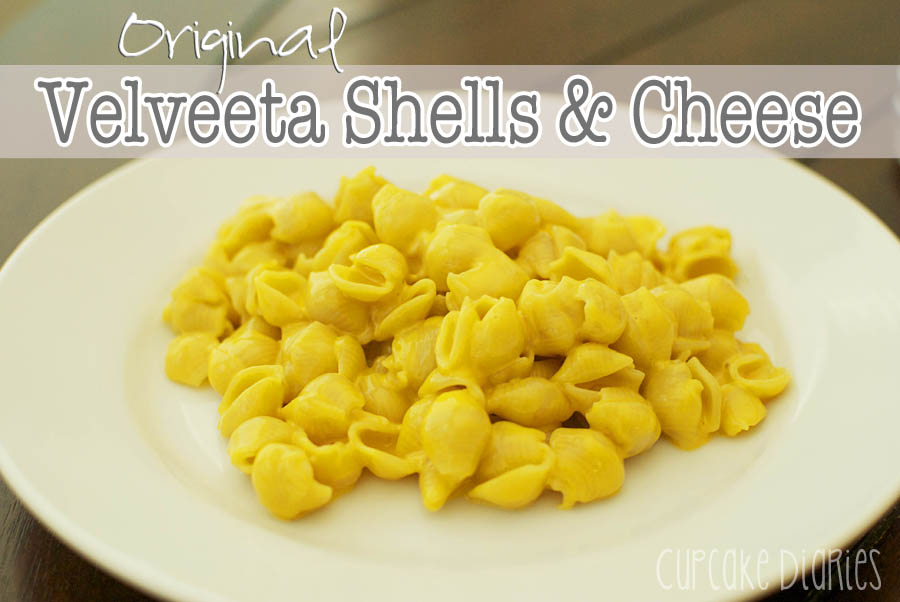macncheese: (167, 169, 795, 527)
